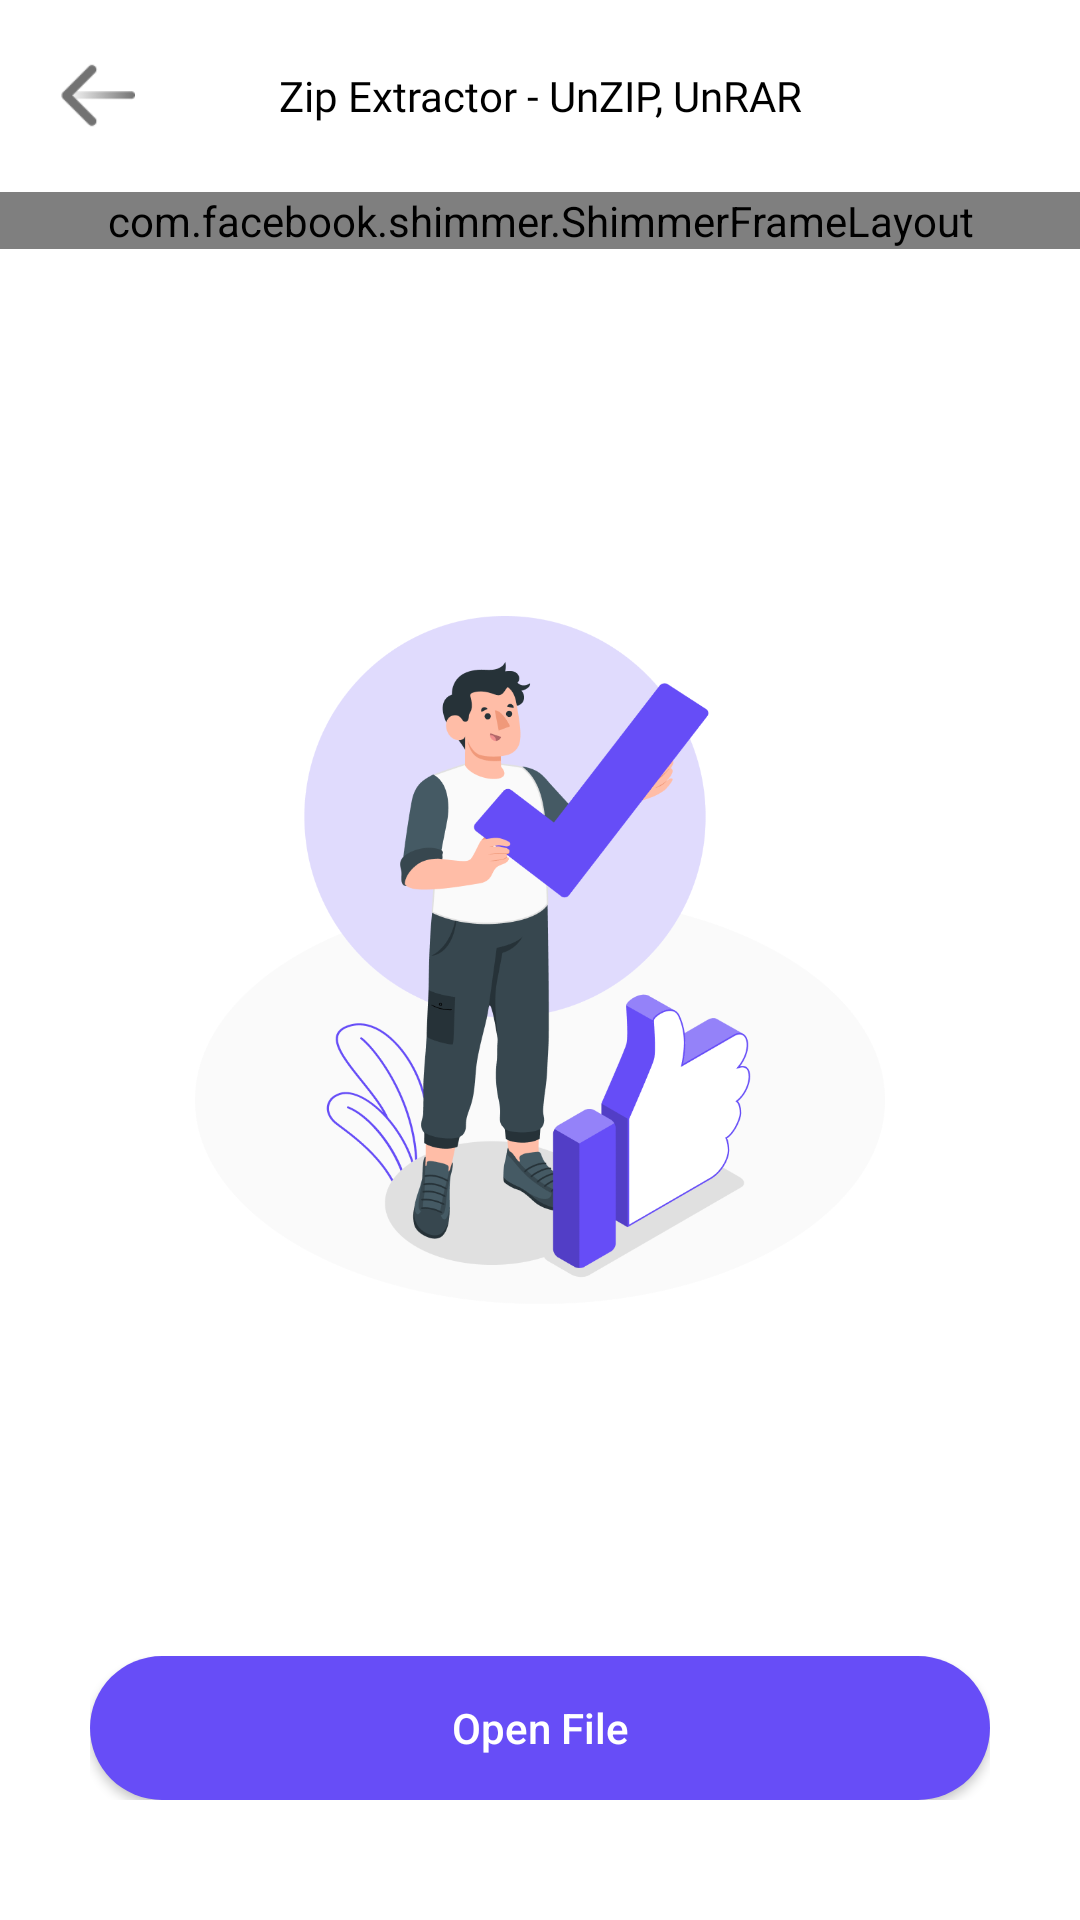

Where to tap for icons on this 1080px×1920px app screen, as (x,y):
effect back: (98,95)
